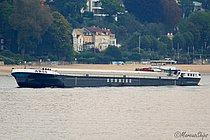Ship: (8, 59, 204, 91)
